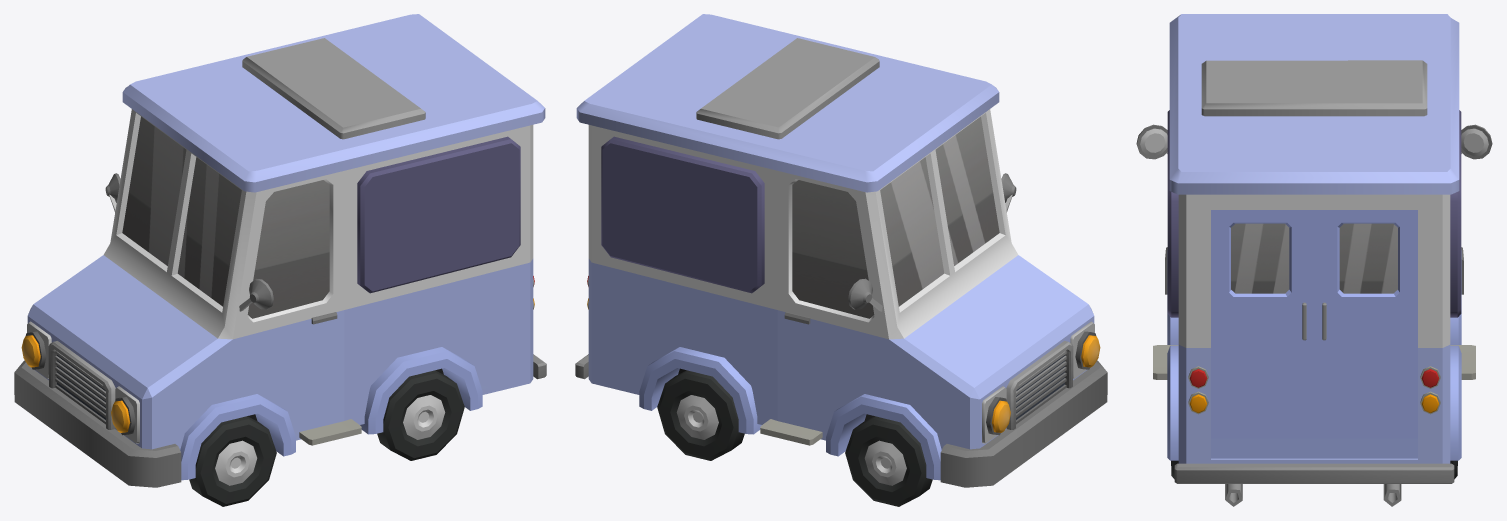
The model's file is Car_14_C.fbx.
3 renders of one model, left to right at view 1: azimuth 30°, elevation 25°; view 2: azimuth 150°, elevation 25°; view 3: azimuth 270°, elevation 25°, orthographic. The views are drawn at different scales.
Parts seen in each view (by area): view 1: Car_14_C, RL, FL; view 2: Car_14_C, RR, FR; view 3: Car_14_C.
Boxes of the visible parts, x1=… form: Car_14_C: x1=14, y1=14, x2=546, y2=487; RL: x1=377, y1=370, x2=464, y2=460; FL: x1=189, y1=416, x2=276, y2=506; Car_14_C: x1=575, y1=14, x2=1107, y2=487; RR: x1=657, y1=370, x2=744, y2=460; FR: x1=845, y1=416, x2=932, y2=506; Car_14_C: x1=1136, y1=14, x2=1492, y2=506.
Size of the model in its own units: 2.75 by 2.1 by 1.8.
